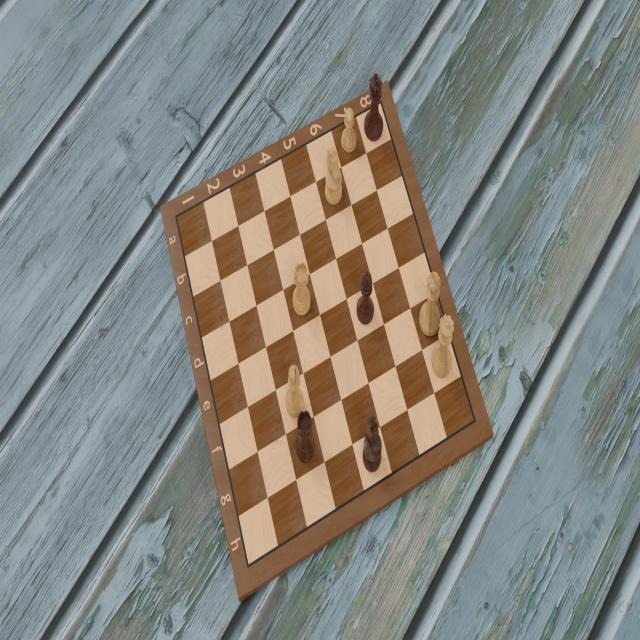black-bishop: (355, 268, 376, 327)
black-king: (363, 70, 384, 141)
black-knight: (361, 414, 383, 473)
black-rook: (294, 408, 315, 464)
white-bishop: (285, 361, 305, 419)
white-king: (417, 269, 443, 339)
white-knight: (320, 148, 344, 208)
white-pawn: (340, 105, 358, 155)
white-queen: (432, 312, 455, 380)
white-rook: (290, 260, 313, 316)
